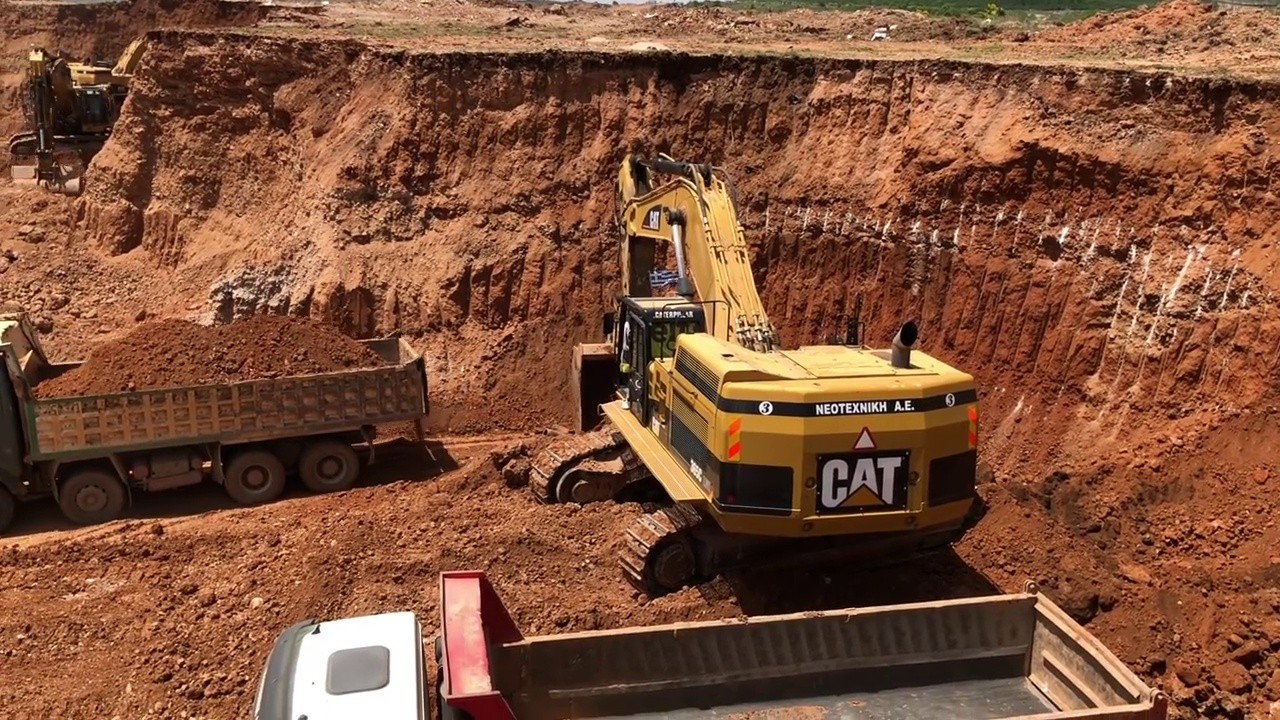excavator: (529, 153, 988, 593)
truck: (250, 569, 1169, 720), (1, 307, 431, 524)
